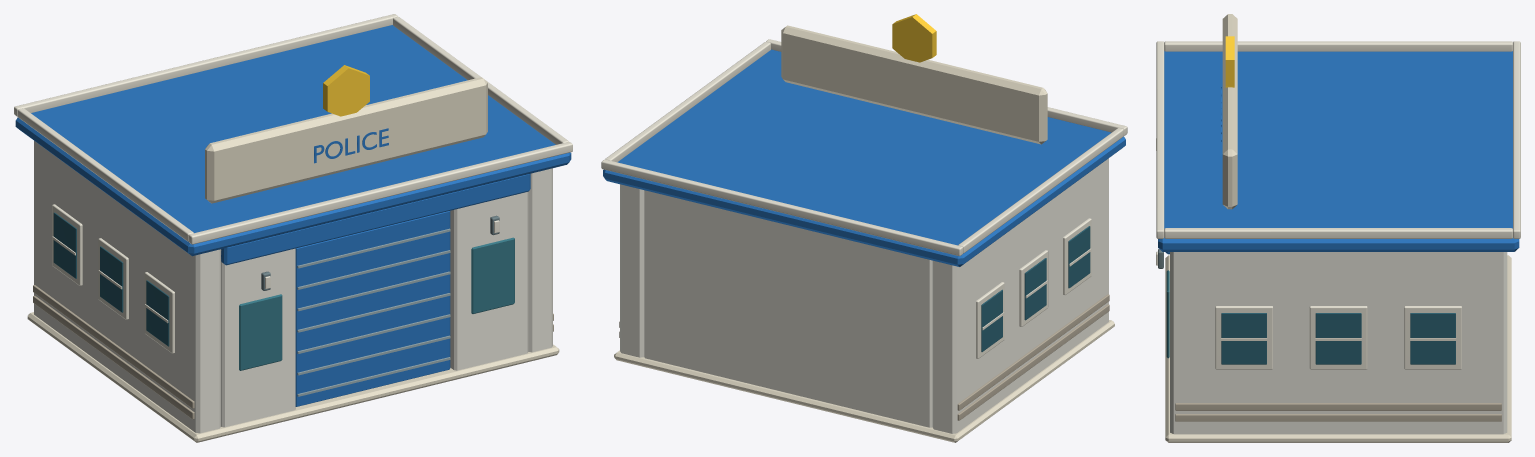
The model's file is police-station.glb.
3 renders of one model, left to right at view 1: azimuth 30°, elevation 25°; view 2: azimuth 150°, elevation 25°; view 3: azimuth 270°, elevation 25°, orthographic. The views are drawn at different scales.
Visible parts, largest first — view 1: Building, Shutter; view 2: Building; view 3: Building.
Part boxes in pixels (x1,y1,x2,y2): Building: [14, 14, 572, 442]; Shutter: [295, 211, 450, 406]; Building: [601, 14, 1127, 442]; Building: [1156, 14, 1520, 442].
Size of the model in its own units: 7.5 by 5.83 by 6.06.
